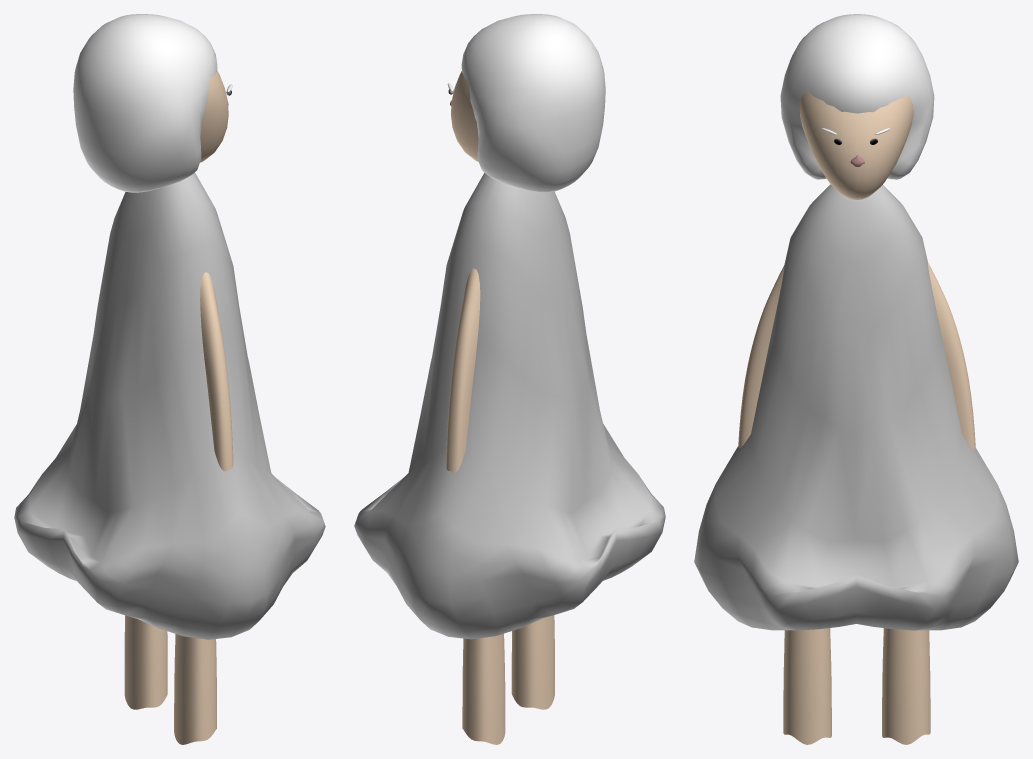
File: mother.dae
The picture shows the model from 3 angles, left to right: view 1: azimuth 30°, elevation 25°; view 2: azimuth 150°, elevation 25°; view 3: azimuth 270°, elevation 25°; orthographic projection.
Visible parts, largest first — view 1: Sphere.008, Sphere.009, Cube.002, Sphere; view 2: Sphere.008, Sphere.009, Cube.002, Sphere; view 3: Sphere.008, Cube.002, Sphere.009, Sphere.
Boxes of the visible parts, bbox=[...] form: Sphere.008: bbox=[14, 172, 325, 639]; Sphere.009: bbox=[73, 14, 217, 192]; Cube.002: bbox=[124, 272, 233, 744]; Sphere: bbox=[200, 70, 228, 162]; Sphere.008: bbox=[354, 173, 665, 639]; Sphere.009: bbox=[461, 14, 605, 192]; Cube.002: bbox=[446, 268, 554, 744]; Sphere: bbox=[451, 71, 478, 161]; Sphere.008: bbox=[694, 184, 1018, 630]; Cube.002: bbox=[738, 262, 975, 744]; Sphere.009: bbox=[780, 14, 934, 179]; Sphere: bbox=[799, 90, 913, 199].
Size of the model in its own units: 1.16 by 1.39 by 3.35.
